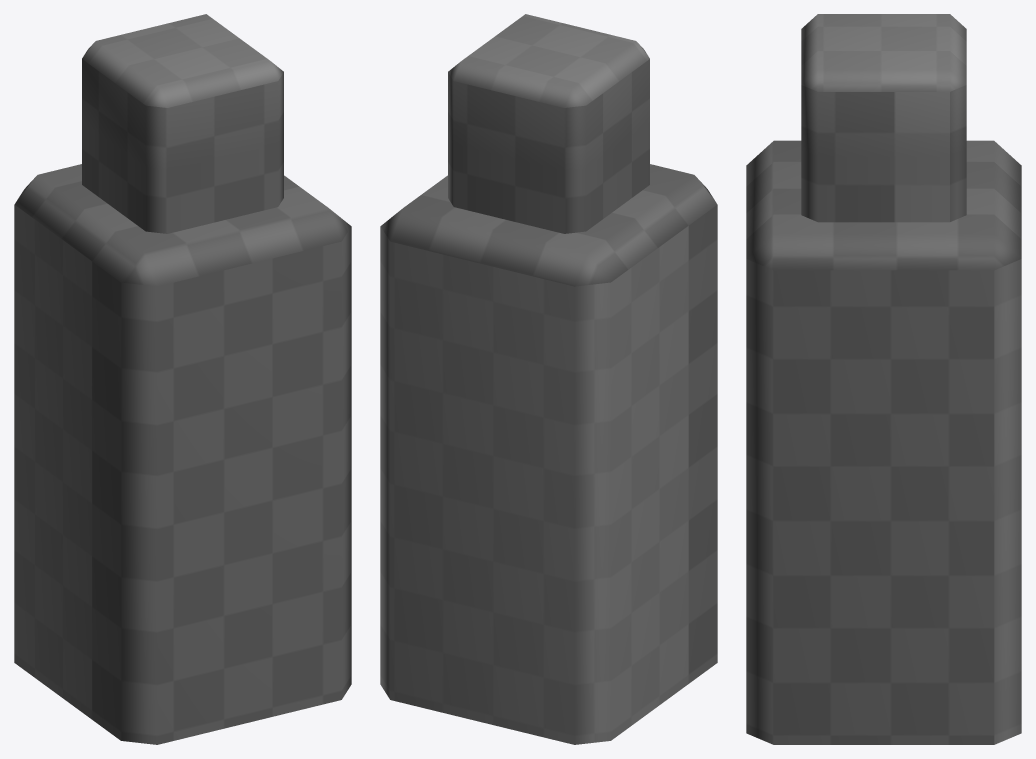
Rendered from RailingPillar_X2_Y2_Z2.fbx.
The picture shows the model from 3 angles, left to right: view 1: azimuth 30°, elevation 25°; view 2: azimuth 150°, elevation 25°; view 3: azimuth 270°, elevation 25°; orthographic projection. The views are drawn at different scales.
Visible parts, largest first — view 1: RailingPillar_X2_Y2_Z2; view 2: RailingPillar_X2_Y2_Z2; view 3: RailingPillar_X2_Y2_Z2.
Boxes of the visible parts, bbox=[...] form: RailingPillar_X2_Y2_Z2: bbox=[14, 14, 351, 744]; RailingPillar_X2_Y2_Z2: bbox=[380, 14, 717, 744]; RailingPillar_X2_Y2_Z2: bbox=[746, 14, 1021, 744].
Bounding box in the file's own units: 1 × 2.58 × 1.
